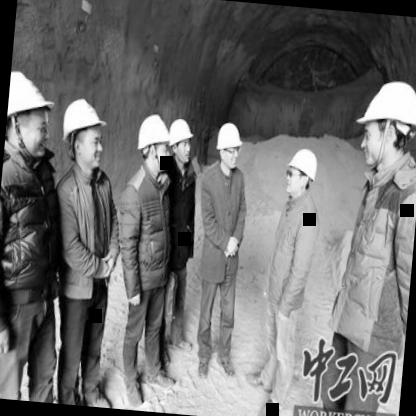helmet: (352, 73, 416, 185), (3, 70, 56, 168), (57, 94, 110, 174), (134, 112, 174, 180), (281, 144, 320, 203), (213, 118, 244, 173), (166, 115, 195, 168)
